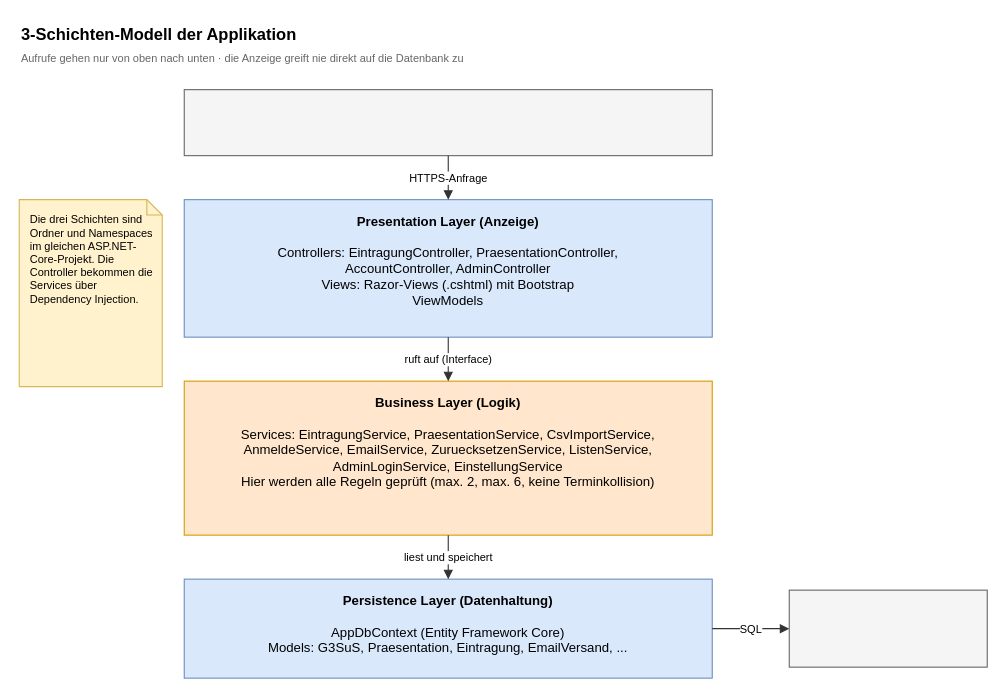
Image size: 1007x697. Some labels were removed from this diagram. The box of each missing label's shape, as (x1, y1, x2, y2) in pixels:
Browser PC, Laptop, Handy: (183, 89, 712, 156)
Datenbank Azure SQL Database (lokal: SQL Server Express): (788, 589, 987, 667)
